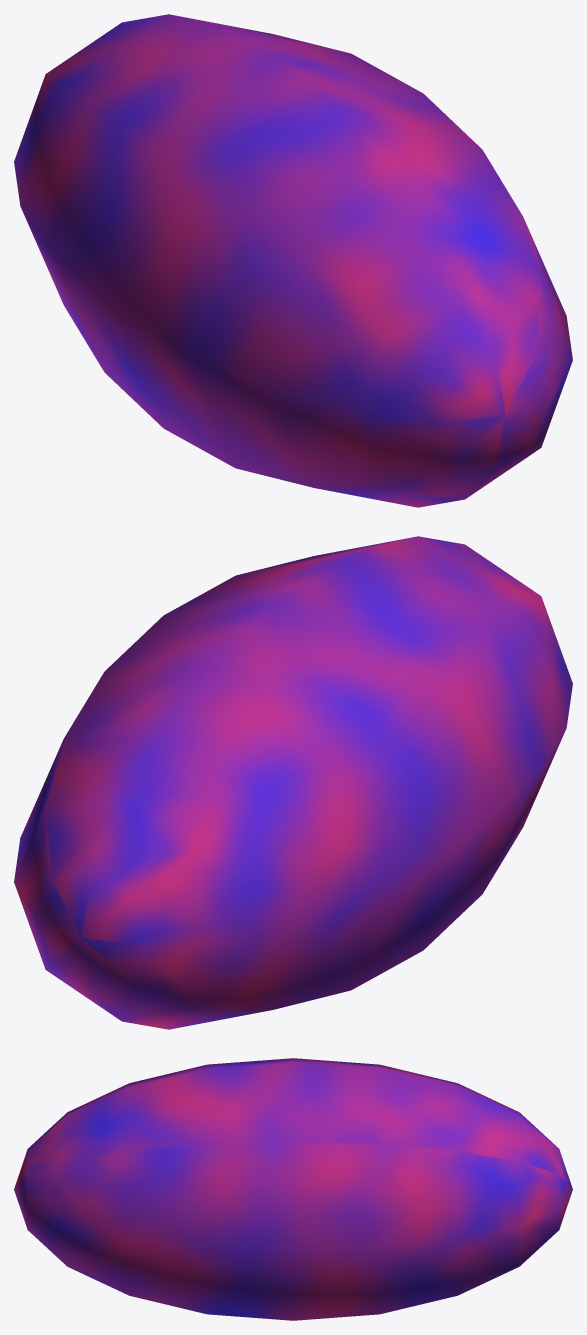
File: PlasmaBullet.obj
The picture shows the model from 3 angles, top to bottom: view 1: azimuth 30°, elevation 25°; view 2: azimuth 150°, elevation 25°; view 3: azimuth 270°, elevation 25°; orthographic projection. The views are drawn at different scales.
Visible parts, largest first — view 1: pSphere1; view 2: pSphere1; view 3: pSphere1.
Boxes of the visible parts, left/top/right/bottom form: pSphere1: left=14, top=14, right=572, bottom=507; pSphere1: left=14, top=536, right=572, bottom=1029; pSphere1: left=14, top=1058, right=572, bottom=1320.
Bounding box in the file's own units: 1.01 × 1.01 × 2.01.
Materials: 1 (1 with a texture image).
